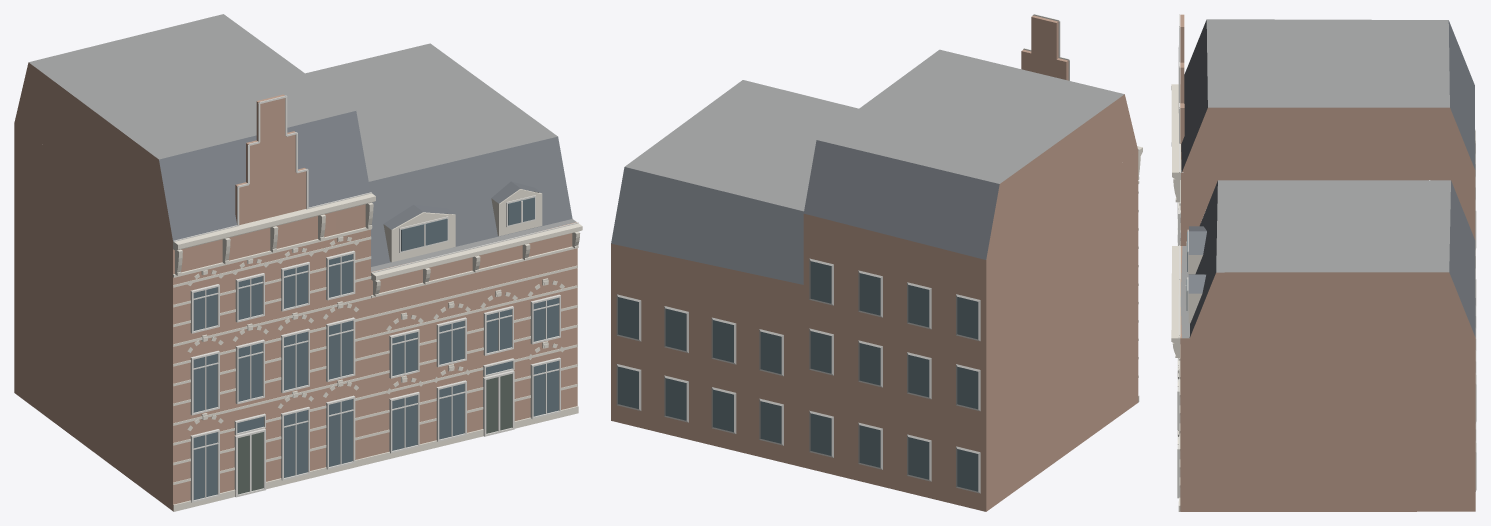
File: chunk-face-kloveniersburgwal-90-102.glb
The picture shows the model from 3 angles, left to right: view 1: azimuth 30°, elevation 25°; view 2: azimuth 150°, elevation 25°; view 3: azimuth 270°, elevation 25°; orthographic projection. The views are drawn at different scales.
Visible parts, largest first — view 1: face-kloveniersburgwal-90-102; view 2: face-kloveniersburgwal-90-102; view 3: face-kloveniersburgwal-90-102.
Boxes of the visible parts, x1=… form: face-kloveniersburgwal-90-102: x1=14, y1=14, x2=582, y2=511; face-kloveniersburgwal-90-102: x1=611, y1=14, x2=1142, y2=511; face-kloveniersburgwal-90-102: x1=1171, y1=14, x2=1476, y2=511.
Size of the model in its own units: 18.88 by 17.33 by 13.48.
